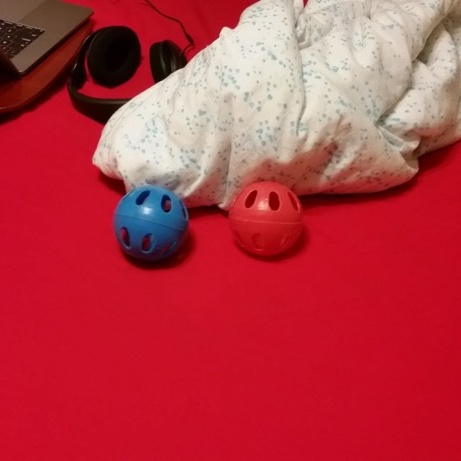ball: (107, 181, 194, 268), (224, 176, 310, 261)
